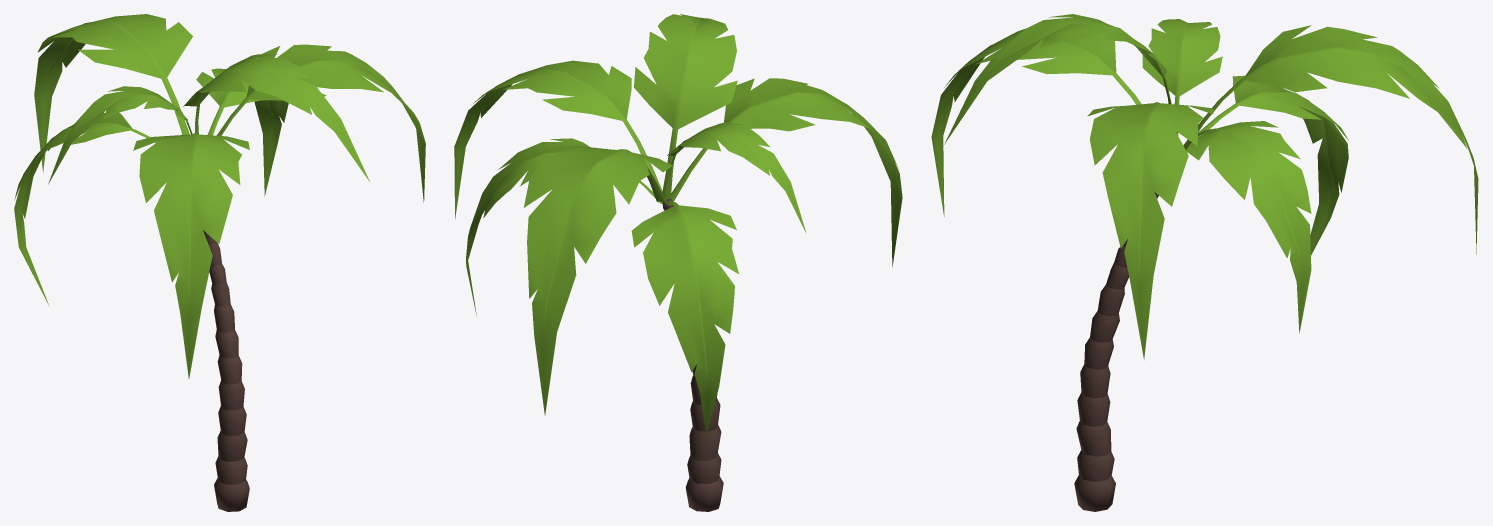
Rendered from palm_tree.glb.
3 renders of one model, left to right at view 1: azimuth 30°, elevation 25°; view 2: azimuth 150°, elevation 25°; view 3: azimuth 270°, elevation 25°, orthographic. The views are drawn at different scales.
Parts seen in each view (by area): view 1: PalmLeaf.006, PalmLeaf.002, PalmWood, PalmLeaf.001, PalmLeaf.005, PalmLeaf.003, PalmLeaf.004, PalmLeaf; view 2: PalmLeaf.002, PalmLeaf.003, PalmLeaf.001, PalmLeaf.006, PalmLeaf.005, PalmWood, PalmLeaf, PalmLeaf.004; view 3: PalmLeaf.005, PalmLeaf.002, PalmLeaf.004, PalmWood, PalmLeaf.003, PalmLeaf.006, PalmLeaf, PalmLeaf.001.
Boxes of the visible parts, bbox=[...] form: PalmLeaf.006: bbox=[133, 133, 249, 378]; PalmLeaf.002: bbox=[34, 14, 192, 172]; PalmWood: bbox=[203, 230, 249, 511]; PalmLeaf.001: bbox=[183, 54, 369, 181]; PalmLeaf.005: bbox=[217, 44, 425, 202]; PalmLeaf.003: bbox=[14, 113, 157, 305]; PalmLeaf.004: bbox=[196, 68, 288, 196]; PalmLeaf: bbox=[48, 86, 192, 184]; PalmLeaf.002: bbox=[524, 146, 672, 415]; PalmLeaf.003: bbox=[631, 201, 738, 435]; PalmLeaf.001: bbox=[634, 14, 737, 199]; PalmLeaf.006: bbox=[670, 78, 902, 267]; PalmLeaf.005: bbox=[454, 60, 662, 219]; PalmWood: bbox=[662, 198, 723, 511]; PalmLeaf: bbox=[665, 122, 806, 233]; PalmLeaf.004: bbox=[466, 138, 662, 316]; PalmLeaf.005: bbox=[1087, 102, 1213, 359]; PalmLeaf.002: bbox=[1183, 25, 1478, 254]; PalmLeaf.004: bbox=[1184, 121, 1311, 333]; PalmWood: bbox=[1074, 192, 1158, 511]; PalmLeaf.003: bbox=[1186, 75, 1348, 255]; PalmLeaf.006: bbox=[931, 28, 1141, 216]; PalmLeaf: bbox=[1142, 19, 1222, 135]; PalmLeaf.001: bbox=[944, 14, 1171, 144].
Size of the model in its own units: 4.6 by 5.45 by 5.48.
